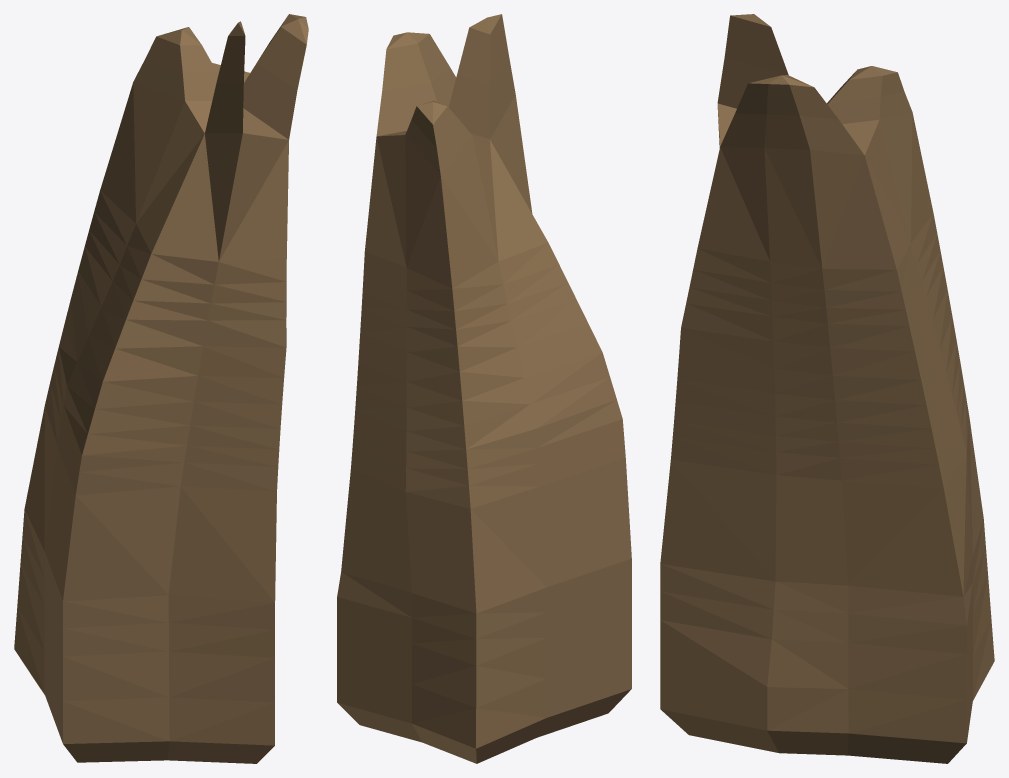
File: rock-spire-sand.glb
The picture shows the model from 3 angles, left to right: view 1: azimuth 30°, elevation 25°; view 2: azimuth 150°, elevation 25°; view 3: azimuth 270°, elevation 25°; orthographic projection. The views are drawn at different scales.
Visible parts, largest first — view 1: spire; view 2: spire; view 3: spire.
Part boxes in pixels (left/top/right/bottom): spire: left=14, top=14, right=308, bottom=763; spire: left=337, top=14, right=631, bottom=763; spire: left=660, top=14, right=994, bottom=763.
Size of the model in its own units: 1.29 by 3.5 by 1.46.
